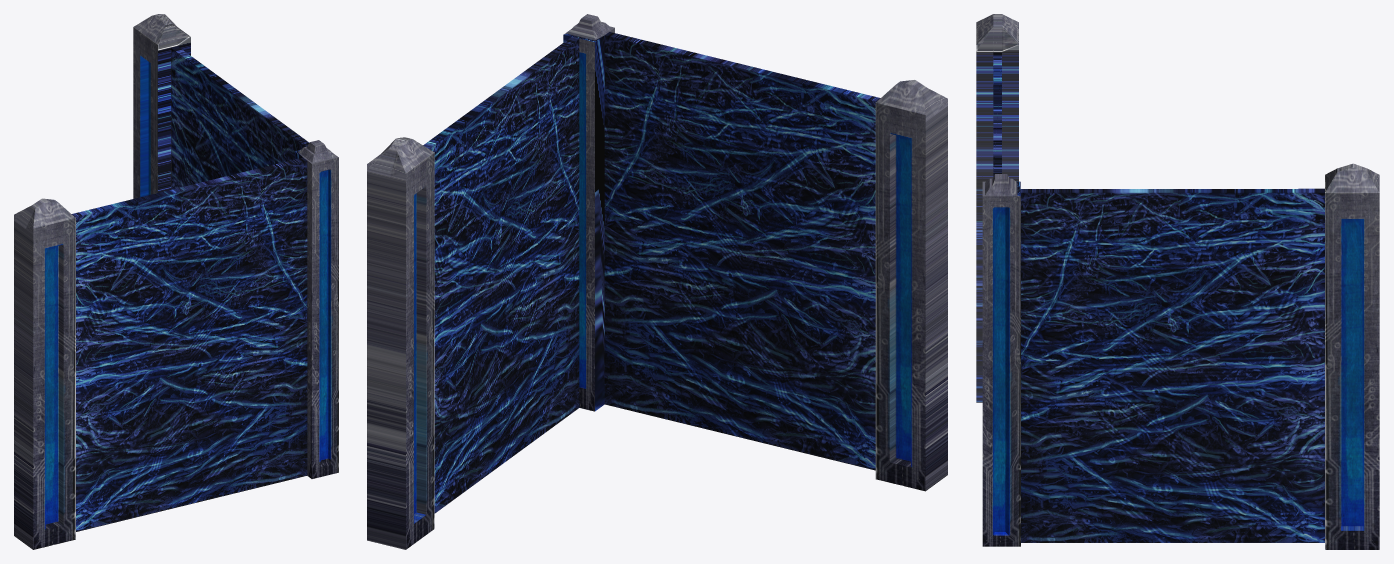
Rendered from kado.fbx.
3 renders of one model, left to right at view 1: azimuth 30°, elevation 25°; view 2: azimuth 150°, elevation 25°; view 3: azimuth 270°, elevation 25°, orthographic. The views are drawn at different scales.
Visible parts, largest first — view 1: pCube12; view 2: pCube12; view 3: pCube12.
Part boxes in pixels (x1,y1,x2,y2): pCube12: [14, 14, 338, 549]; pCube12: [367, 14, 947, 549]; pCube12: [976, 14, 1379, 549].
Bounding box in the file's own units: 39.32 × 40.39 × 39.28.
1 material, 1 textured.
